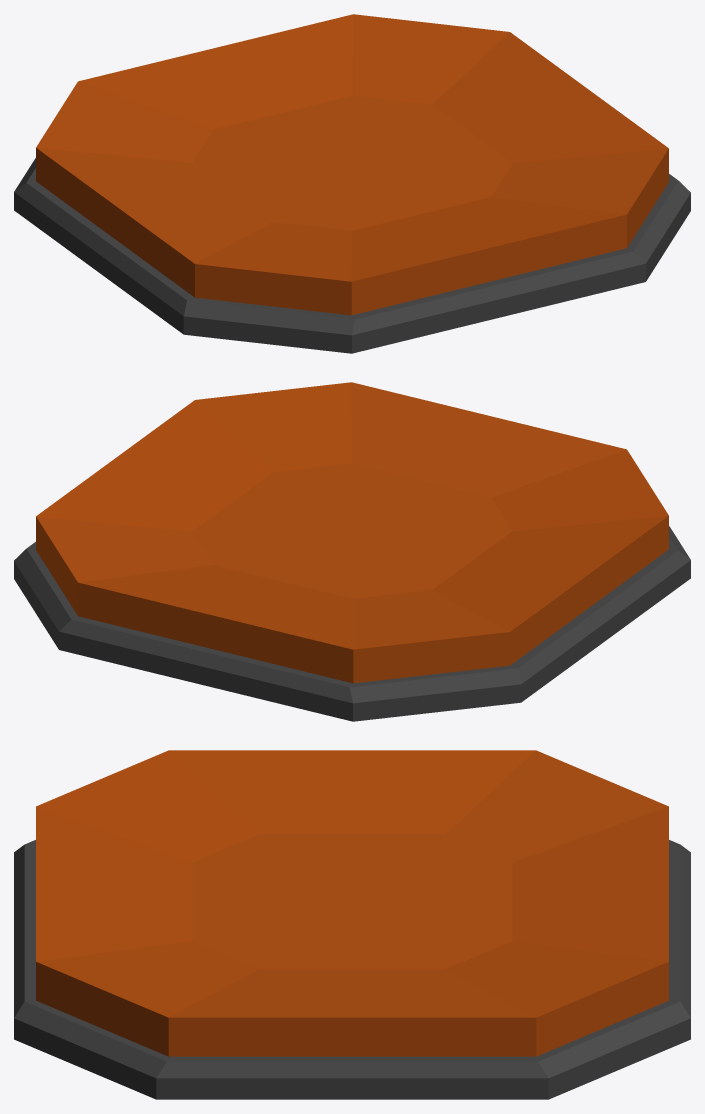
File: CupButton.fbx
The picture shows the model from 3 angles, top to bottom: view 1: azimuth 30°, elevation 25°; view 2: azimuth 150°, elevation 25°; view 3: azimuth 270°, elevation 25°; orthographic projection. The views are drawn at different scales.
Visible parts, largest first — view 1: Cube.012; view 2: Cube.012; view 3: Cube.012.
Boxes of the visible parts, bbox=[...] form: Cube.012: bbox=[14, 14, 690, 353]; Cube.012: bbox=[14, 382, 690, 721]; Cube.012: bbox=[14, 750, 690, 1099].
Bounding box in the file's own units: 72.29 × 72.29 × 8.54.
